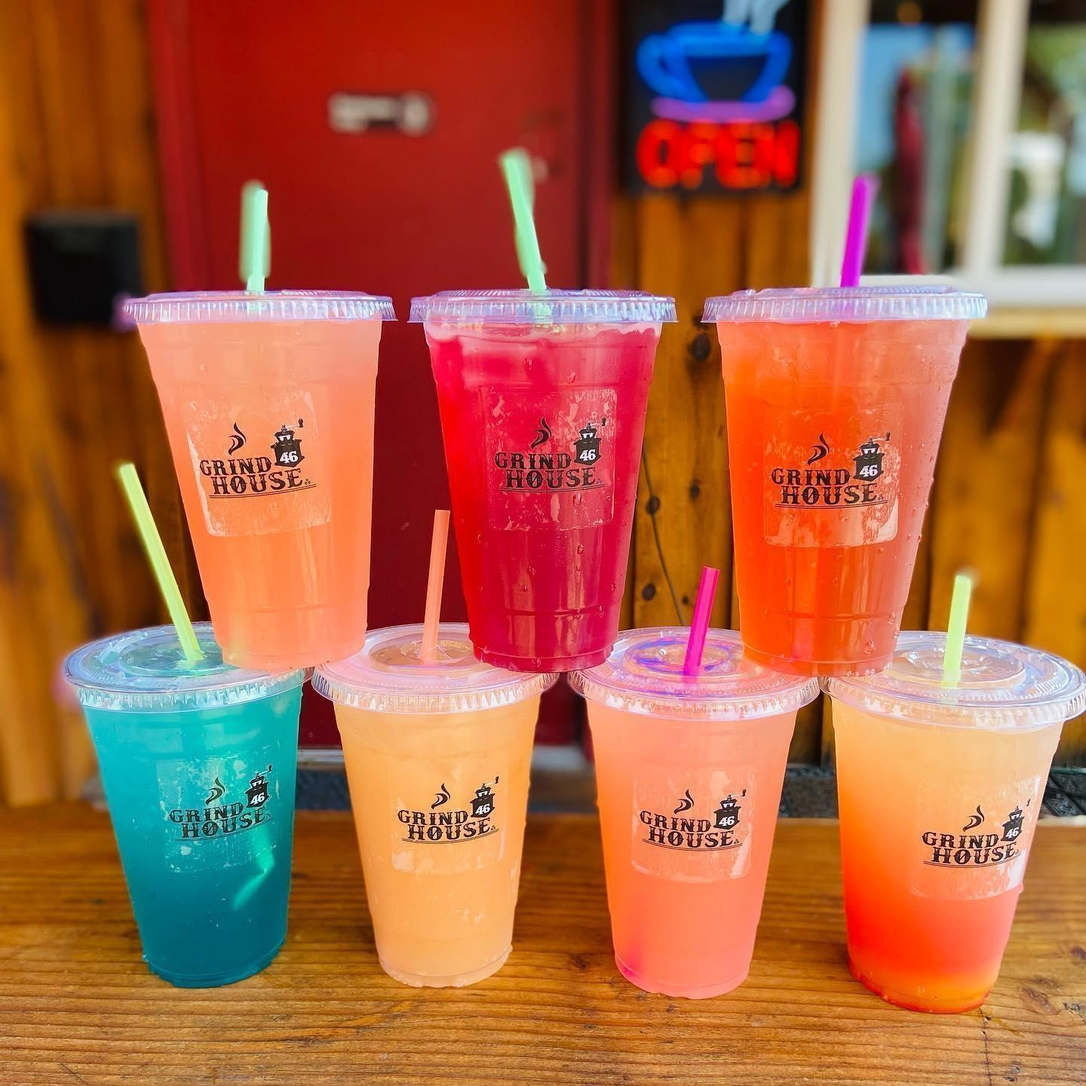cup-disposable: (117, 275, 406, 678), (700, 282, 991, 678), (408, 277, 675, 674), (828, 619, 1085, 1025), (577, 619, 827, 1011), (61, 621, 321, 996), (318, 612, 565, 1001)
